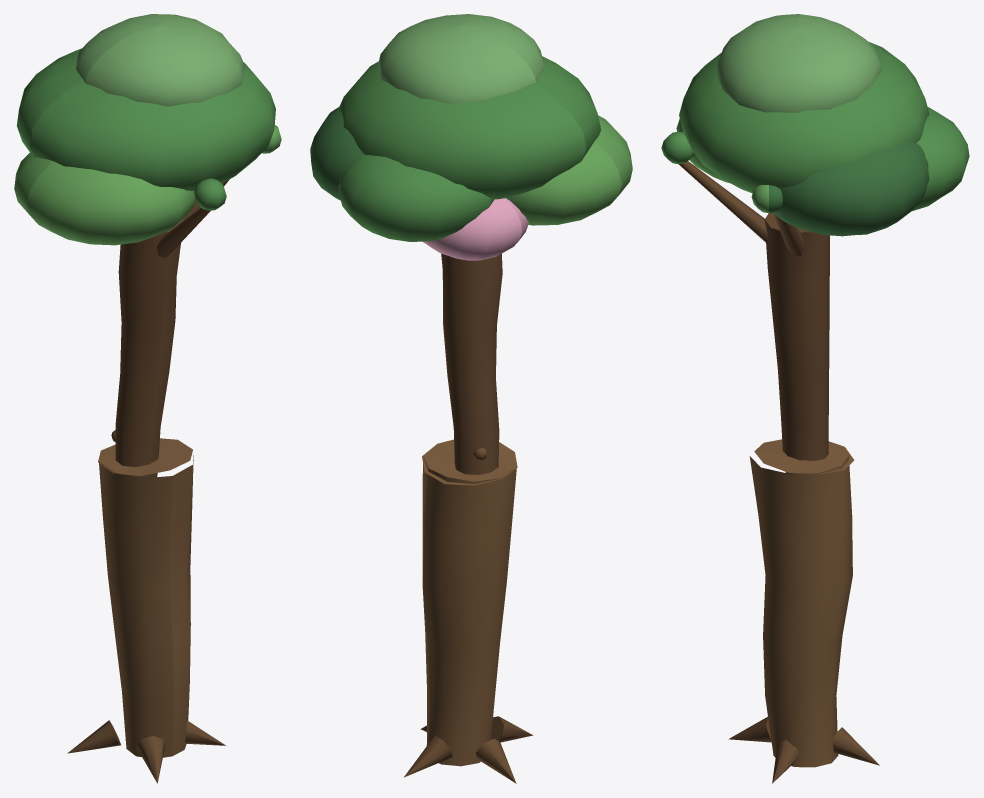
The model's file is tree.glb.
3 views of the same model, side by side, from view 1: azimuth 30°, elevation 25°; view 2: azimuth 150°, elevation 25°; view 3: azimuth 270°, elevation 25° (orthographic).
Visible parts, largest first — view 1: tree; view 2: tree; view 3: tree.
Part boxes in pixels (bbox=[...]): tree: bbox=[14, 14, 281, 783]; tree: bbox=[310, 14, 632, 783]; tree: bbox=[661, 14, 969, 783].
Bounding box in the file's own units: 3 × 7.83 × 3.
